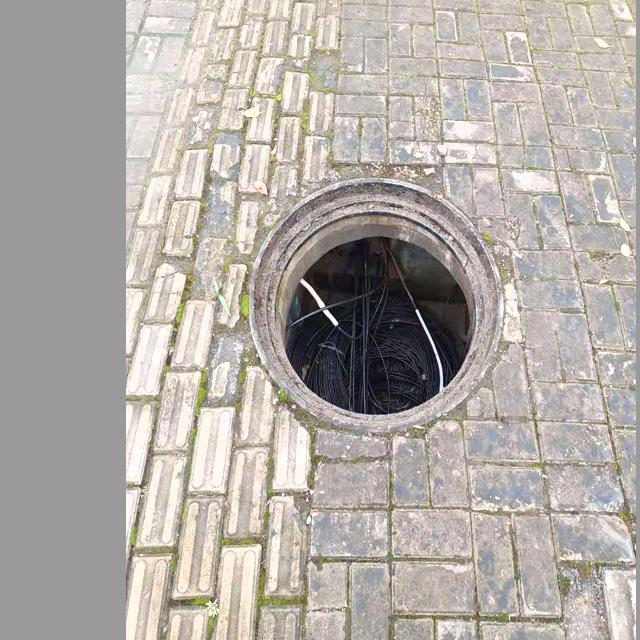lose: (251, 178, 505, 437)
